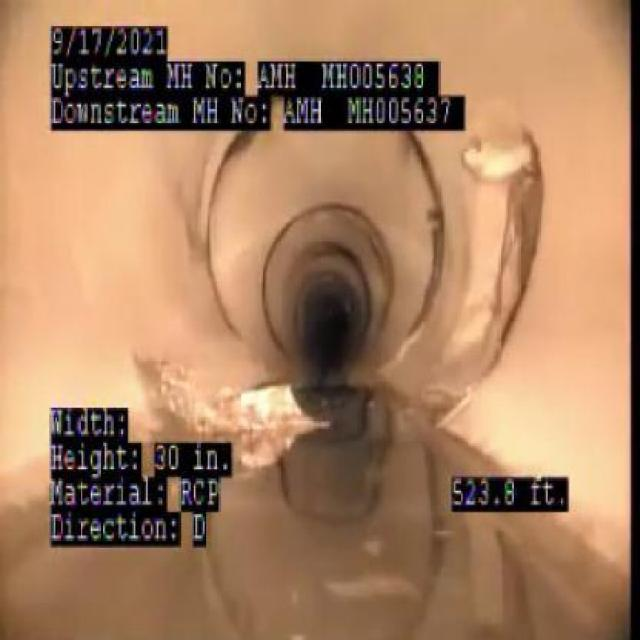Debris: (128, 328, 317, 442)
